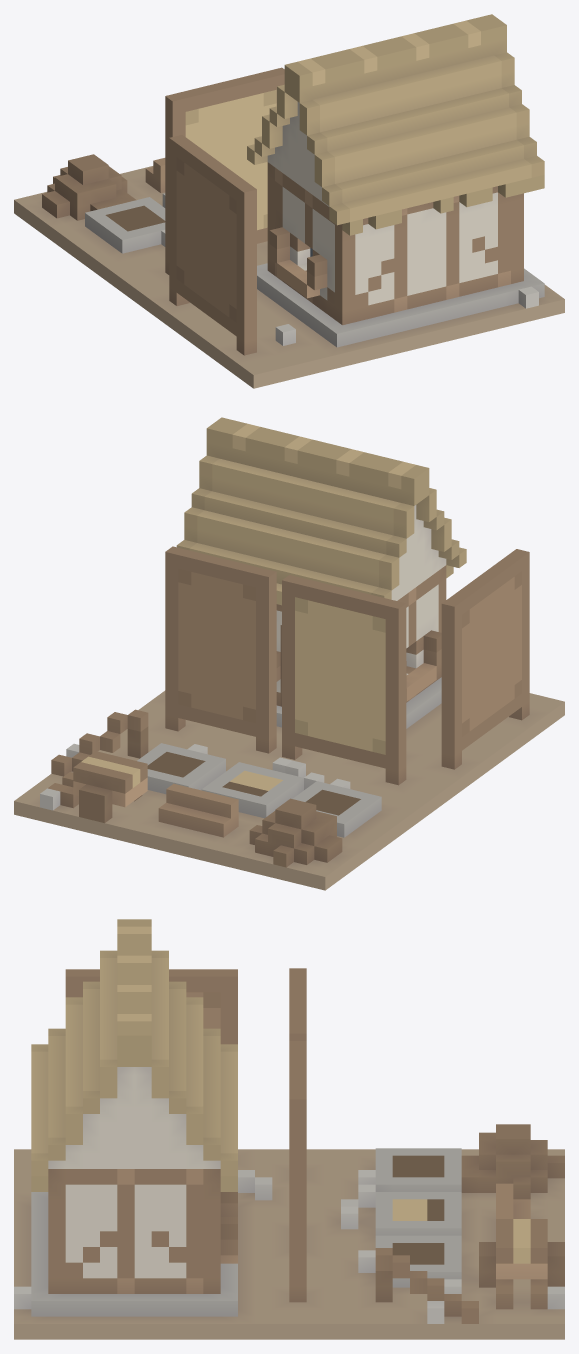
The model's file is leather_works.glb.
3 views of the same model, one above another, from view 1: azimuth 30°, elevation 25°; view 2: azimuth 150°, elevation 25°; view 3: azimuth 270°, elevation 25° (orthographic). The views are drawn at different scales.
Visible parts, largest first — view 1: leather_works; view 2: leather_works; view 3: leather_works.
Boxes of the visible parts, left/top/right/bottom form: leather_works: left=14, top=14, right=564, bottom=388; leather_works: left=14, top=417, right=564, bottom=890; leather_works: left=14, top=919, right=564, bottom=1339.
Size of the model in its own units: 3 by 2.38 by 4.
